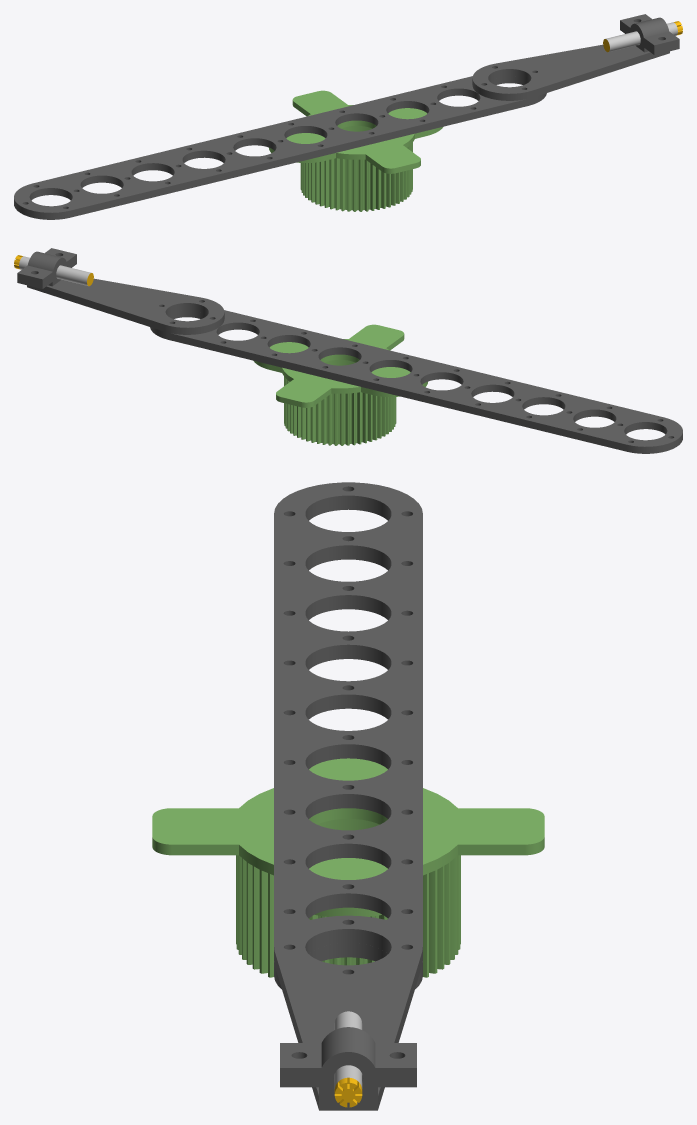
Rendered from rotating_frame_assembly.dae.
3 renders of one model, top to bottom at view 1: azimuth 30°, elevation 25°; view 2: azimuth 150°, elevation 25°; view 3: azimuth 270°, elevation 25°, orthographic. The views are drawn at different scales.
Visible parts, largest first — view 1: Part 1 (×5); view 2: Part 1 (×5); view 3: Part 1 (×5).
Part boxes in pixels (box(x1,y1,x2,y2)): Part 1 (×5): box(14, 14, 682, 219); Part 1 (×5): box(14, 248, 682, 453); Part 1 (×5): box(152, 482, 544, 1110).
Bounding box in the file's own units: 0.3889 × 0.1 × 0.0535.
